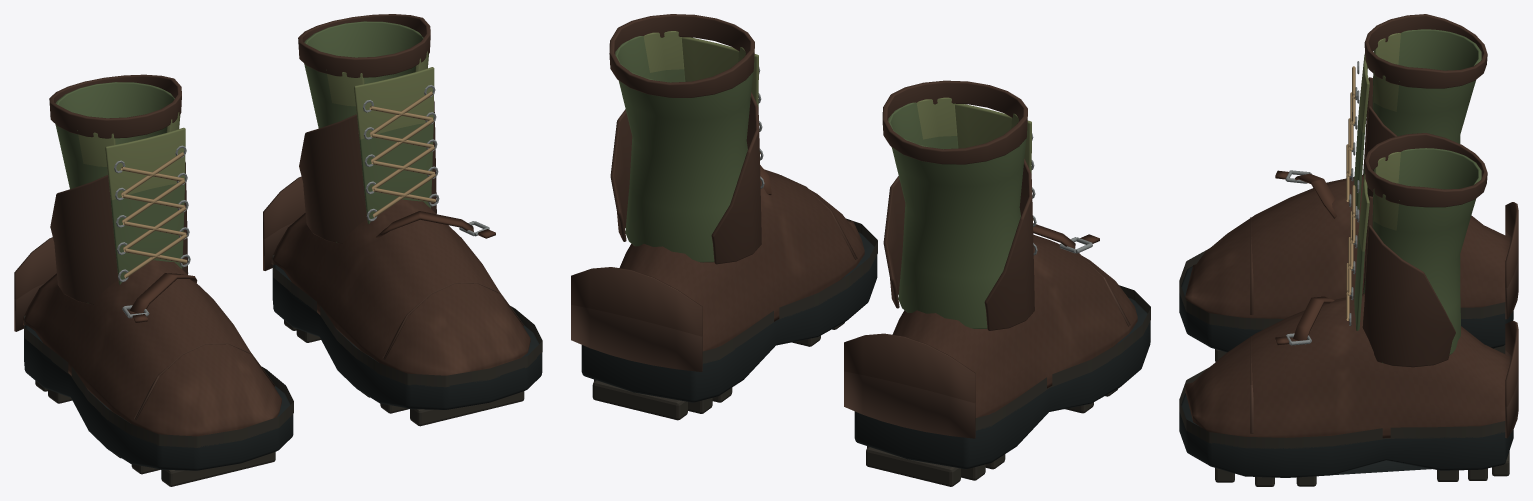
File: service_scout_boots.glb
3 renders of one model, left to right at view 1: azimuth 30°, elevation 25°; view 2: azimuth 150°, elevation 25°; view 3: azimuth 270°, elevation 25°, orthographic. The views are drawn at different scales.
Visible parts, largest first — view 1: SERVICE_SCOUT_BOOT_R, SERVICE_SCOUT_BOOT_L; view 2: SERVICE_SCOUT_BOOT_L, SERVICE_SCOUT_BOOT_R; view 3: SERVICE_SCOUT_BOOT_R, SERVICE_SCOUT_BOOT_L.
Boxes of the visible parts, x1,y1,x2,y2 form: SERVICE_SCOUT_BOOT_R: [263, 14, 542, 426]; SERVICE_SCOUT_BOOT_L: [14, 74, 293, 486]; SERVICE_SCOUT_BOOT_L: [844, 80, 1150, 486]; SERVICE_SCOUT_BOOT_R: [571, 14, 877, 420]; SERVICE_SCOUT_BOOT_R: [1179, 133, 1518, 486]; SERVICE_SCOUT_BOOT_L: [1179, 14, 1518, 361].
Bounding box in the file's own units: 0.3711 × 0.2641 × 0.2728.
Materials: 10 (1 with a texture image).
